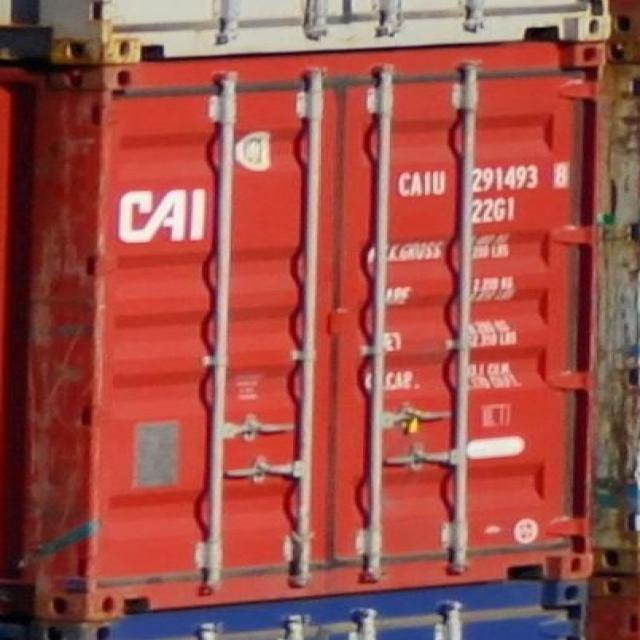ISO: (470, 198, 517, 222)
container_number: (398, 164, 570, 194)
